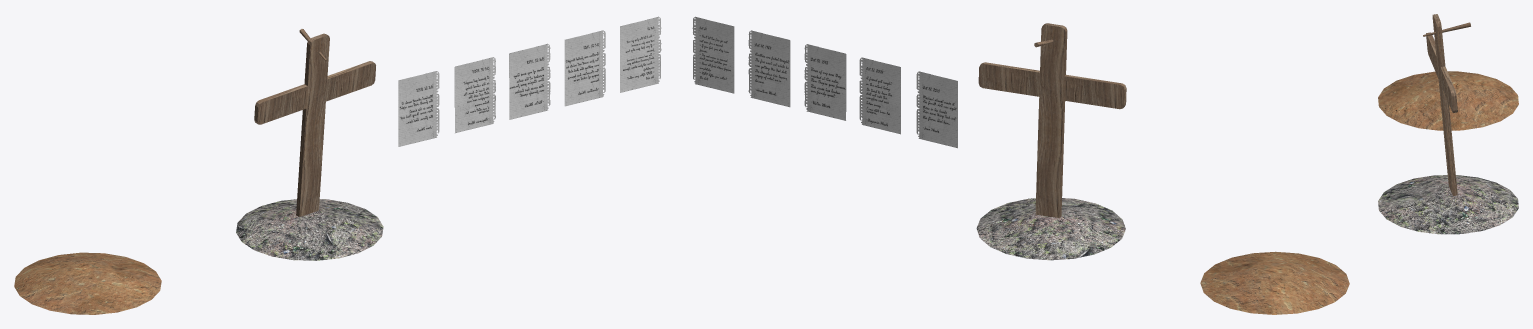
File: last_assets.fbx
3 views of the same model, side by side, from view 1: azimuth 30°, elevation 25°; view 2: azimuth 150°, elevation 25°; view 3: azimuth 270°, elevation 25° (orthographic). The views are drawn at different scales.
Visible parts, largest first — view 1: base.002, camp, note_1, note_4, note_3, note_2, rule; view 2: base.002, camp, note_1, note_2, rule, note_3, note_4; view 3: base.002, camp.
Part boxes in pixels (<box>): base.002: <box>236,29,383,260</box>; camp: <box>14,252,161,314</box>; note_1: <box>564,30,605,106</box>; note_4: <box>398,71,439,146</box>; note_3: <box>454,57,495,133</box>; note_2: <box>509,43,550,119</box>; rule: <box>620,16,661,92</box>; base.002: <box>976,23,1126,260</box>; camp: <box>1200,251,1349,314</box>; note_1: <box>748,30,790,107</box>; note_2: <box>804,44,846,120</box>; rule: <box>692,16,734,93</box>; note_3: <box>859,57,900,134</box>; note_4: <box>916,71,957,148</box>; base.002: <box>1378,14,1518,234</box>; camp: <box>1378,71,1518,130</box>.
Size of the model in its own units: 57.75 by 16.97 by 11.49.
9 materials, 9 textured.
